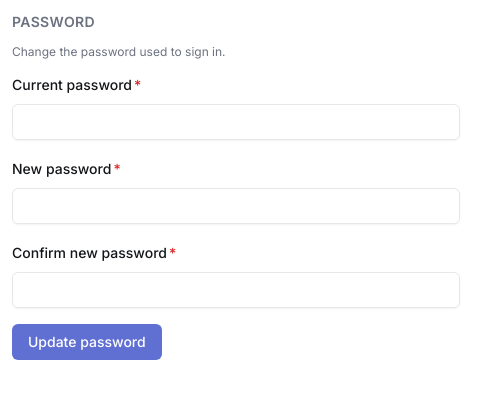
PasswordSection › shows mismatch error when confirm differs from new
Type "abcdefgh" into the password field named "newPassword". click: (236, 206)
box: [12,188,460,224]
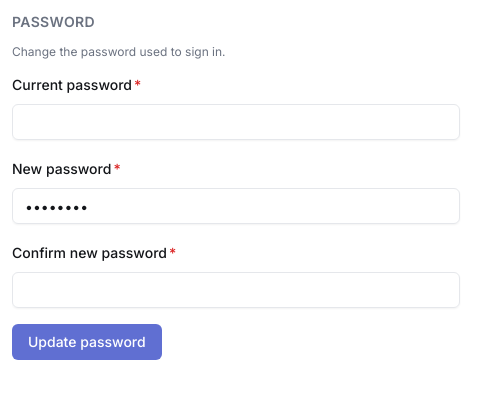
Type "different1" into the password field labelled "Confirm new password*". click: (236, 290)
box: [12,272,460,308]
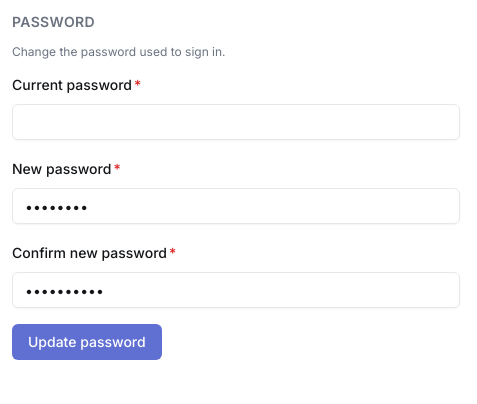
Leave the password field labelled "Confirm new password*", box [12,272,460,308]
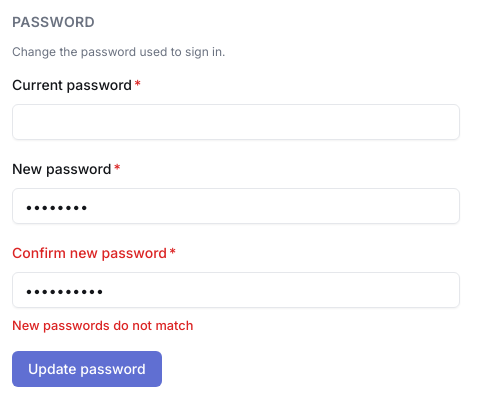
Expected: the text "New passwords do not match" is shown, [12,318,193,333]
